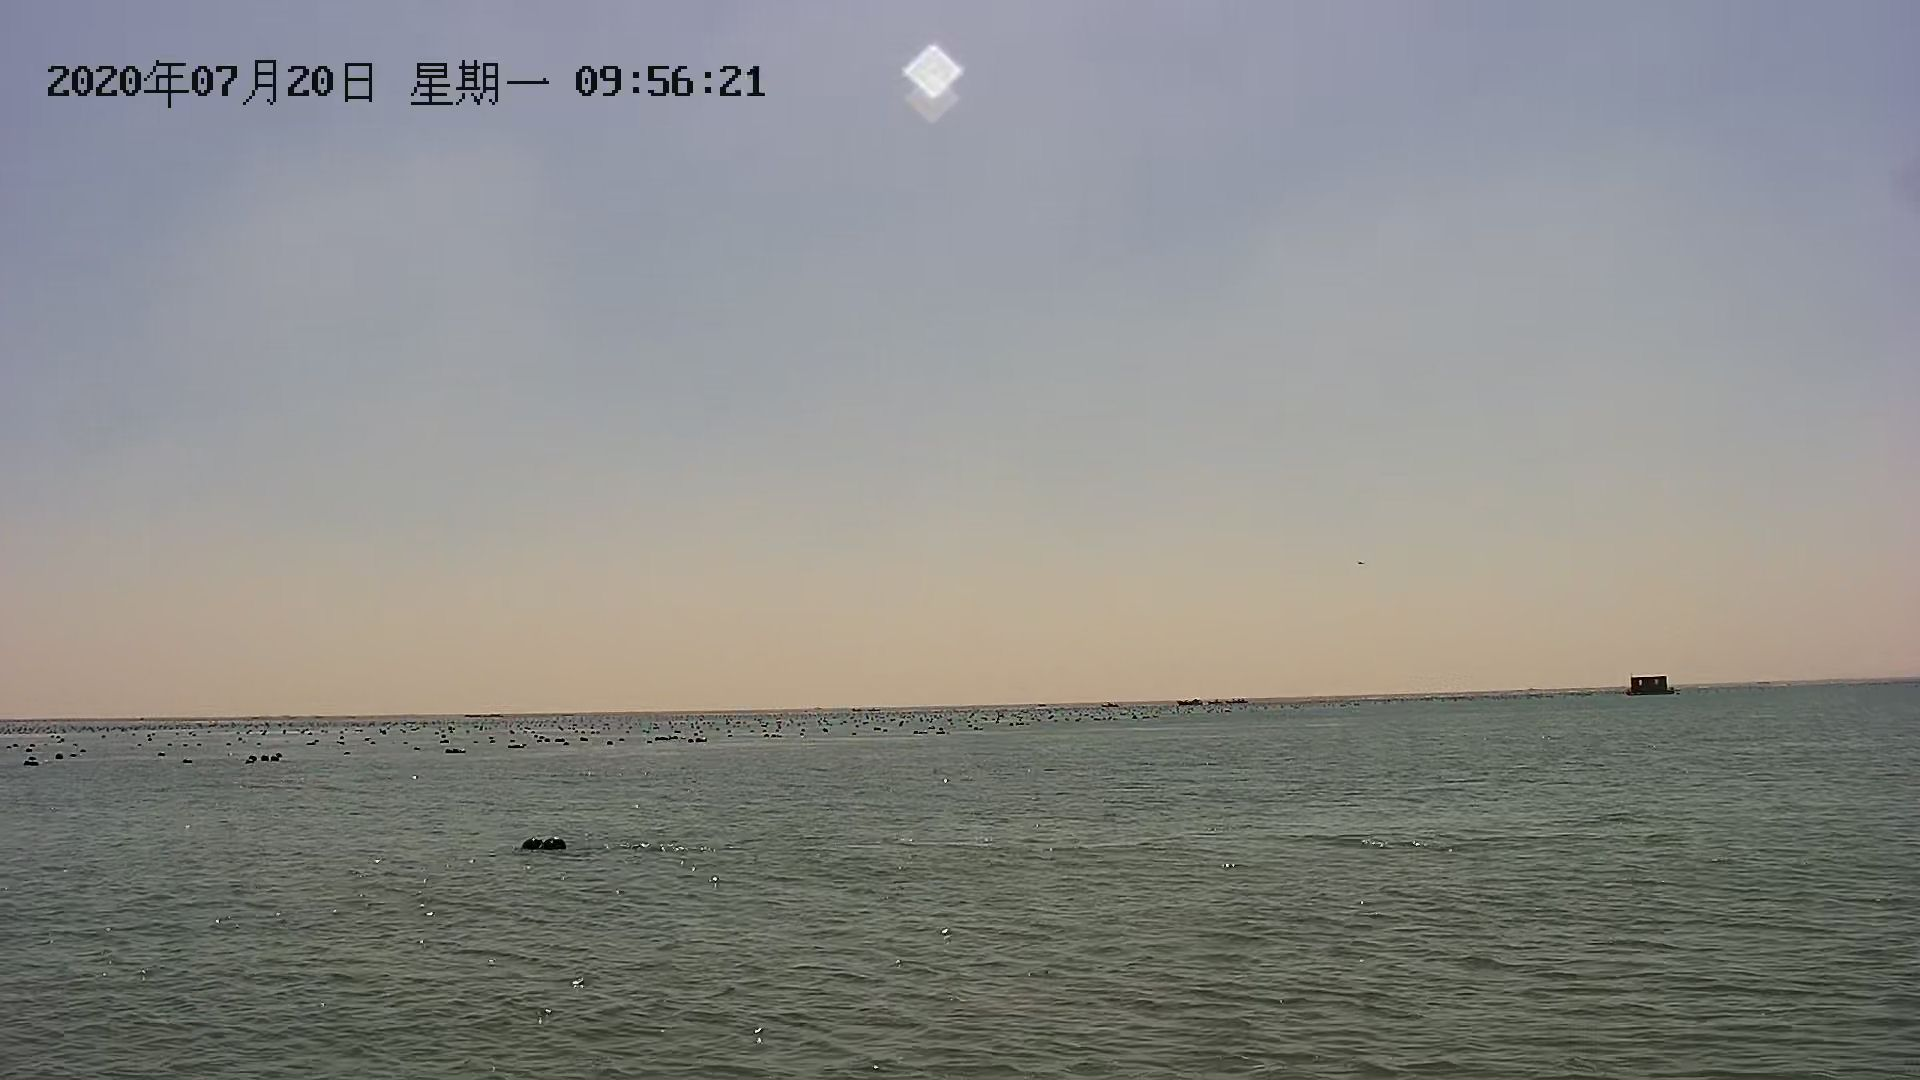ball: (520, 832, 549, 856), (543, 833, 572, 856)
platform: (1621, 673, 1676, 699)
